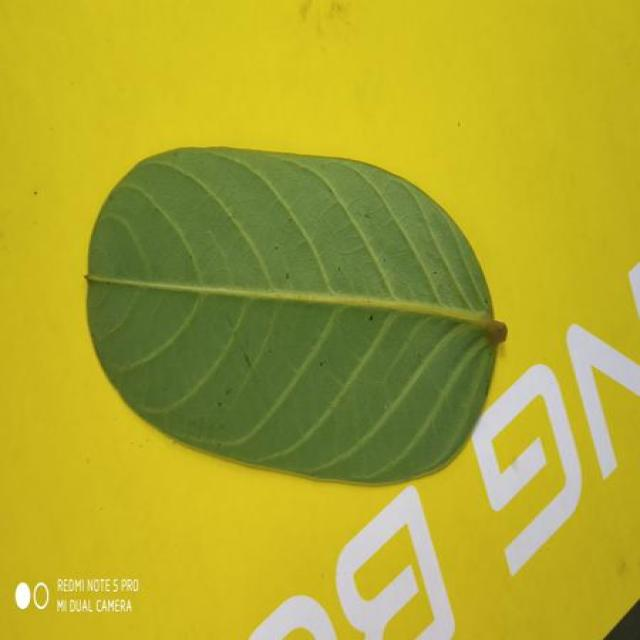chakte: (90, 149, 432, 483)
